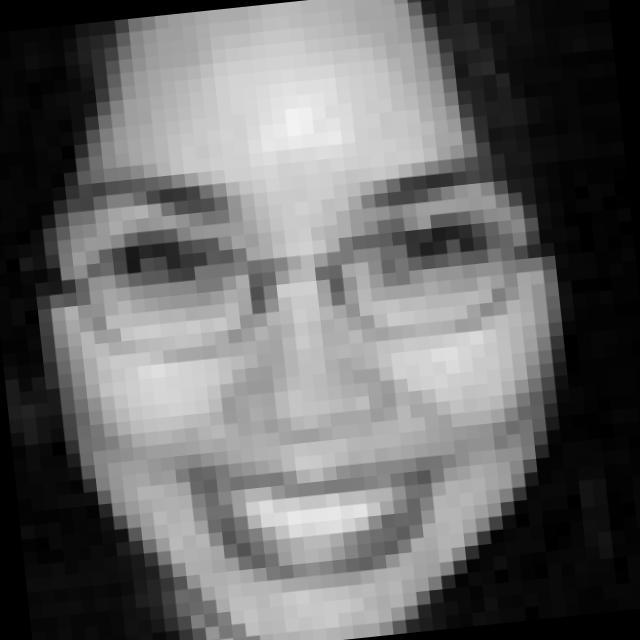happy: (58, 128, 560, 610)
